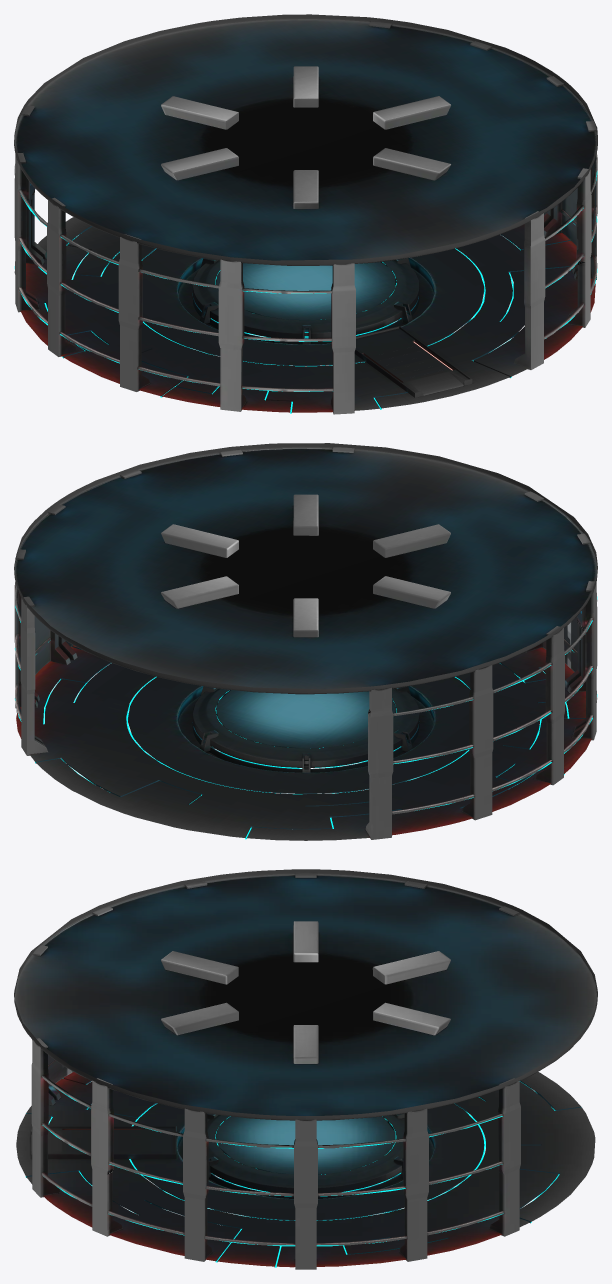
The model's file is home.glb.
3 views of the same model, one above another, from view 1: azimuth 30°, elevation 25°; view 2: azimuth 150°, elevation 25°; view 3: azimuth 270°, elevation 25° (orthographic).
Parts seen in each view (by area): view 1: Black_Ground_Black_0, Black_Wall_Black-Wall_0, Black_LightUpper_Black-Upper_0, Emissive_Cyan__0; view 2: Black_Ground_Black_0, Black_Wall_Black-Wall_0, Black_LightUpper_Black-Upper_0, Emissive_Cyan__0; view 3: Black_Ground_Black_0, Black_Wall_Black-Wall_0, Black_LightUpper_Black-Upper_0, Emissive_Cyan__0.
Part boxes in pixels (x1,y1,x2,y2): Black_Ground_Black_0: (14, 14, 597, 412); Black_Wall_Black-Wall_0: (14, 21, 597, 414); Black_LightUpper_Black-Upper_0: (161, 66, 450, 208); Emissive_Cyan__0: (14, 171, 597, 413); Black_Ground_Black_0: (14, 443, 597, 840); Black_Wall_Black-Wall_0: (14, 447, 597, 839); Black_LightUpper_Black-Upper_0: (161, 494, 450, 637); Emissive_Cyan__0: (14, 596, 597, 839); Black_Ground_Black_0: (14, 869, 597, 1267); Black_Wall_Black-Wall_0: (31, 873, 520, 1269); Black_LightUpper_Black-Upper_0: (161, 921, 450, 1063); Emissive_Cyan__0: (25, 1078, 559, 1267).
Size of the model in its own units: 39.76 by 12.38 by 39.74.
Materials: 6 (4 with a texture image).
